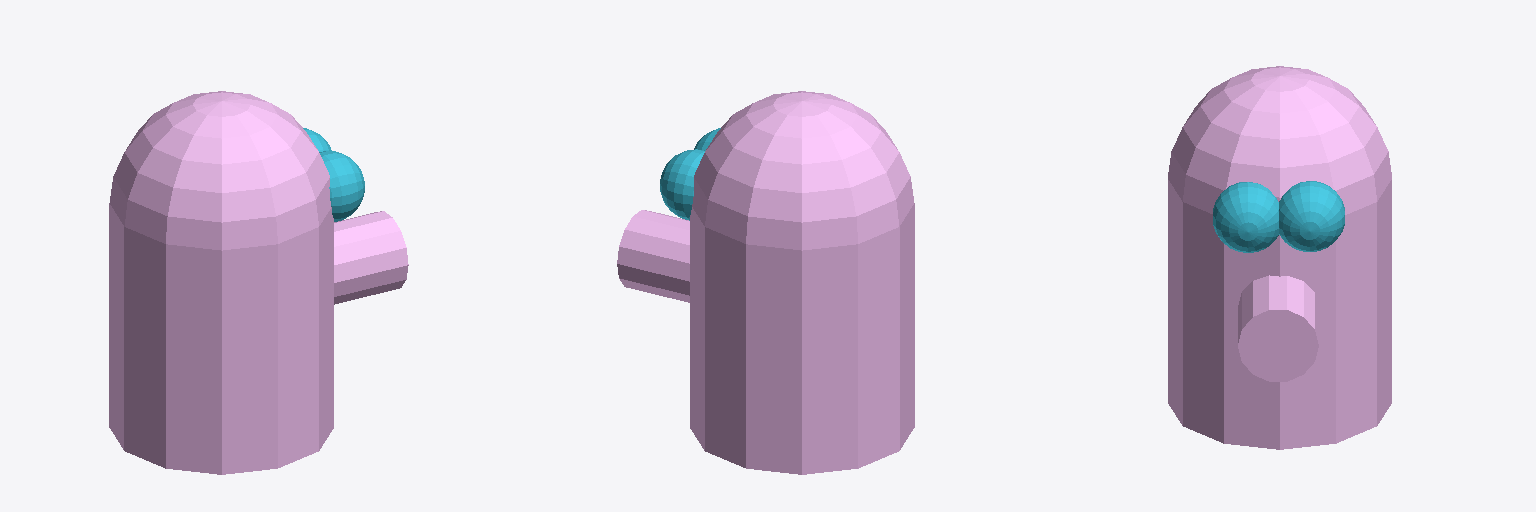
The model's file is robotpink.obj.
3 views of the same model, side by side, from view 1: azimuth 30°, elevation 25°; view 2: azimuth 150°, elevation 25°; view 3: azimuth 270°, elevation 25° (orthographic).
Parts seen in each view (by area): view 1: objCapsule01, objCylinder01, objSphere02; view 2: objCapsule01, objCylinder01, objSphere01; view 3: objCapsule01, objCylinder01, objSphere02, objSphere01.
Boxes of the visible parts, <box> form: objCapsule01: <box>109,91,333,474</box>; objCylinder01: <box>334,211,408,304</box>; objSphere02: <box>319,151,364,221</box>; objCapsule01: <box>690,91,914,474</box>; objCylinder01: <box>617,210,689,302</box>; objSphere01: <box>660,149,704,220</box>; objCapsule01: <box>1168,66,1391,449</box>; objCylinder01: <box>1238,275,1318,381</box>; objSphere02: <box>1213,182,1278,252</box>; objSphere01: <box>1279,181,1344,251</box>.
Bounding box in the file's own units: 70.65 × 83.75 × 52.31.